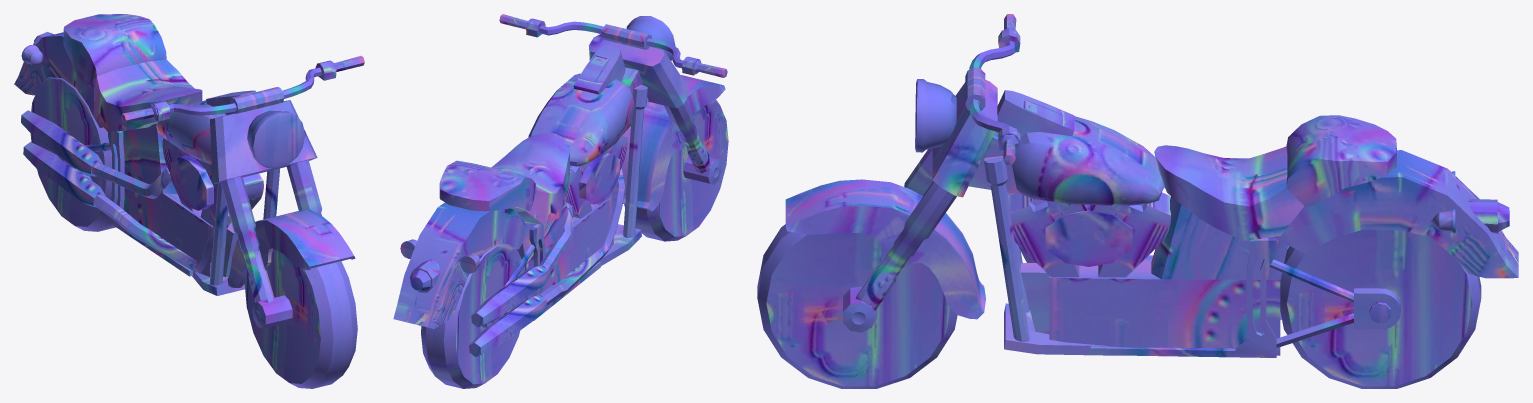
Rendered from Motorcycle.glb.
3 renders of one model, left to right at view 1: azimuth 30°, elevation 25°; view 2: azimuth 150°, elevation 25°; view 3: azimuth 270°, elevation 25°, orthographic. The views are drawn at different scales.
Parts seen in each view (by area): view 1: Motorcycle; view 2: Motorcycle; view 3: Motorcycle.
Part boxes in pixels (box(x1,y1,x2,y2)): Motorcycle: box(14, 14, 364, 388); Motorcycle: box(393, 14, 728, 388); Motorcycle: box(757, 14, 1518, 388).
Size of the model in its own units: 9.9 by 9.93 by 22.48.
Materials: 1 (1 with a texture image).
